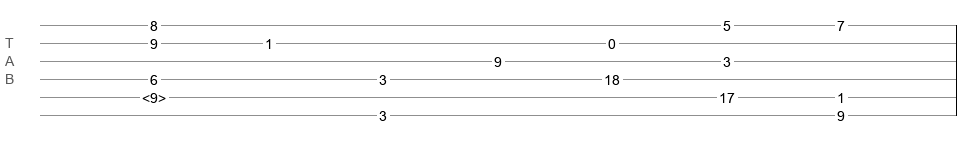0: (608, 36, 616, 46)
1: (265, 36, 273, 46), (837, 90, 845, 100)
17: (719, 90, 735, 100)
18: (604, 72, 620, 82)
3: (379, 72, 387, 82), (379, 108, 387, 118), (723, 54, 731, 64)
5: (723, 18, 731, 28)
6: (150, 72, 158, 82)
7: (837, 18, 845, 28)
8: (150, 18, 158, 28)
9: (150, 36, 158, 46), (494, 54, 502, 64), (837, 108, 845, 118)
harmonic: (142, 90, 166, 100)
